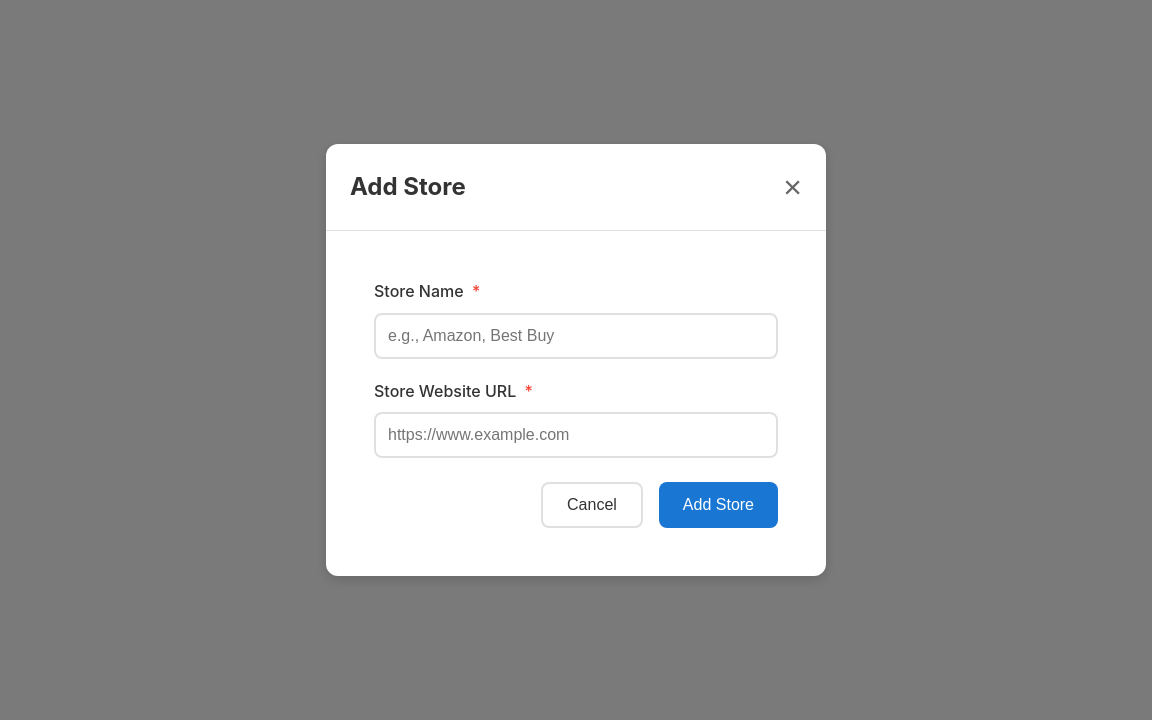
Test: AddStoreModal › form interaction › should show validation error for invalid URL format
This screenshot has width=1152, height=720.
Step 1. Type "Test Store" into the field with id "store-name" → [576, 336], box [374, 313, 778, 359]
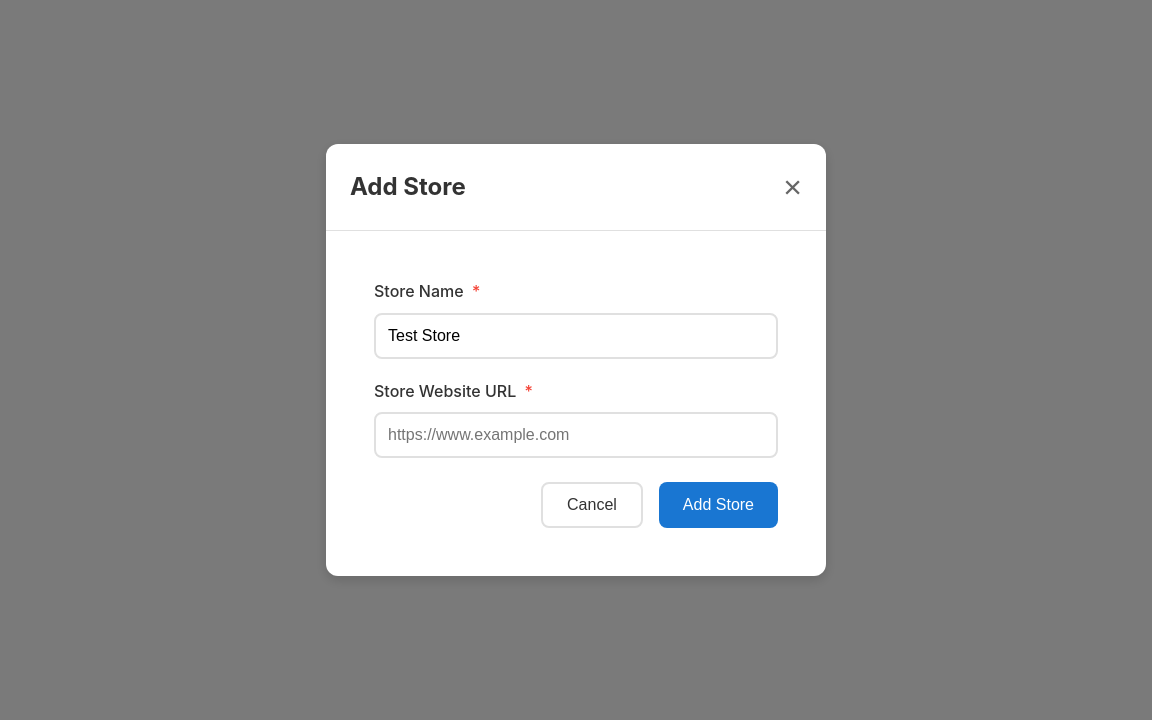
Step 2. Type "not-a-valid-url" into the field with id "store-url" → [576, 435], box [374, 412, 778, 458]
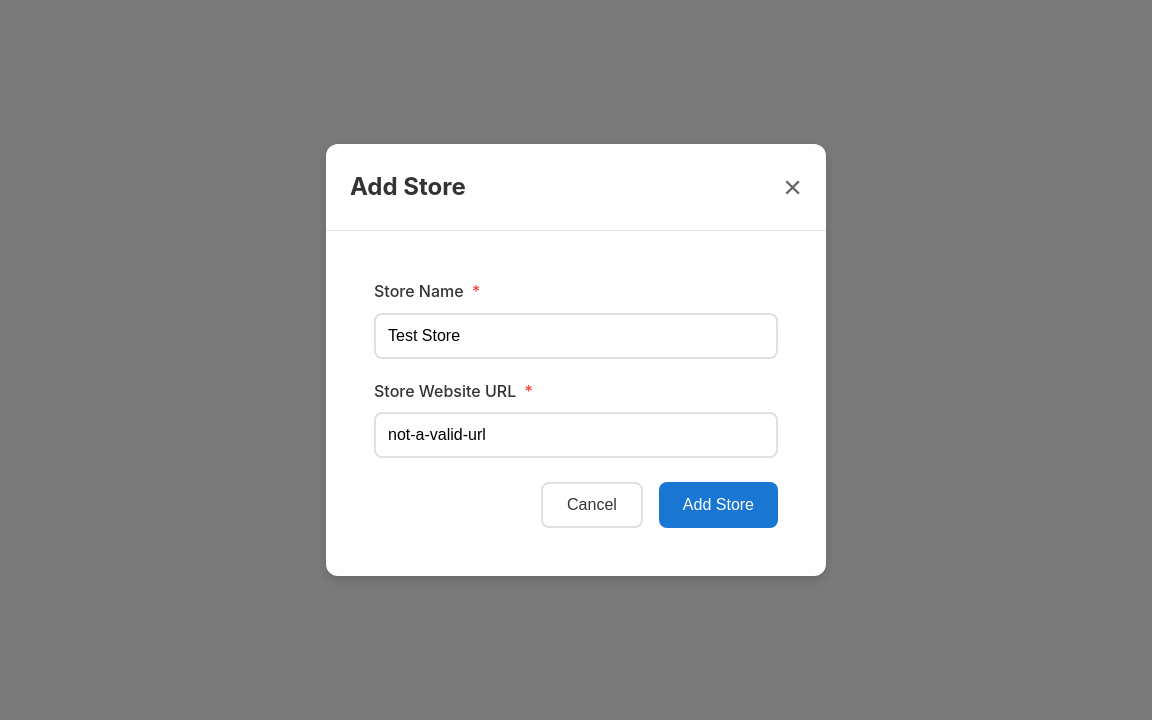
Step 3. Submit the form with id "add-store-form", box [350, 255, 802, 552]
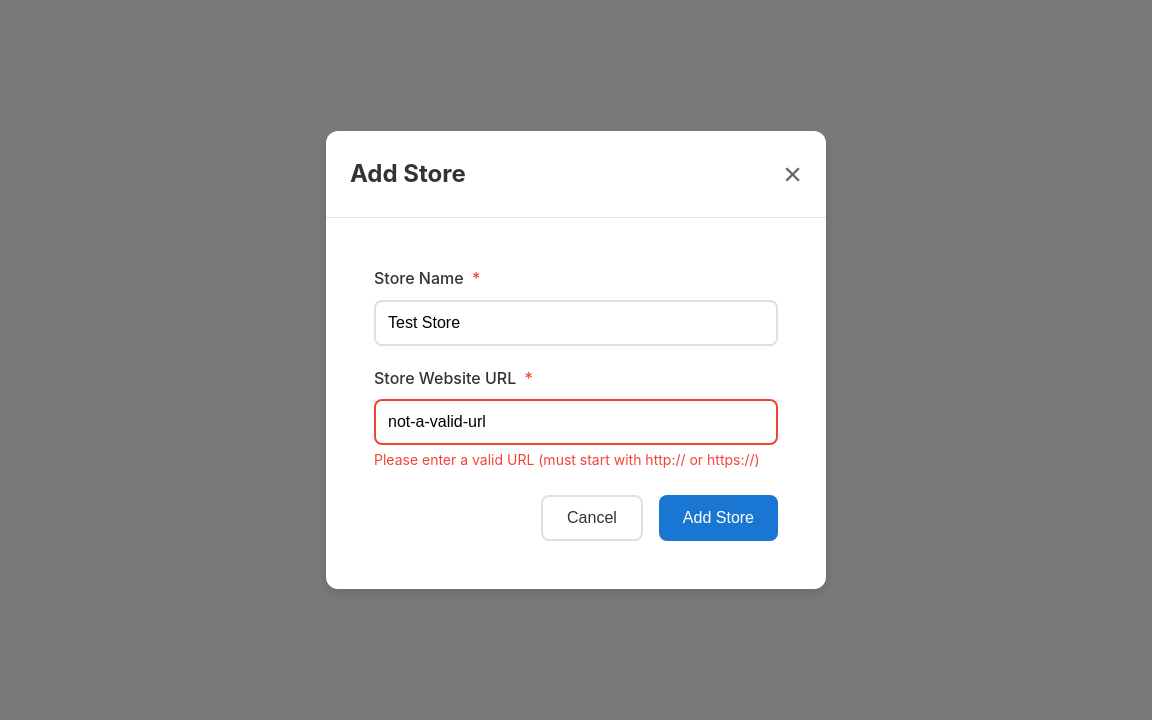
Check: the message with id "store-url-error" shows "valid URL", box [374, 451, 760, 468]
